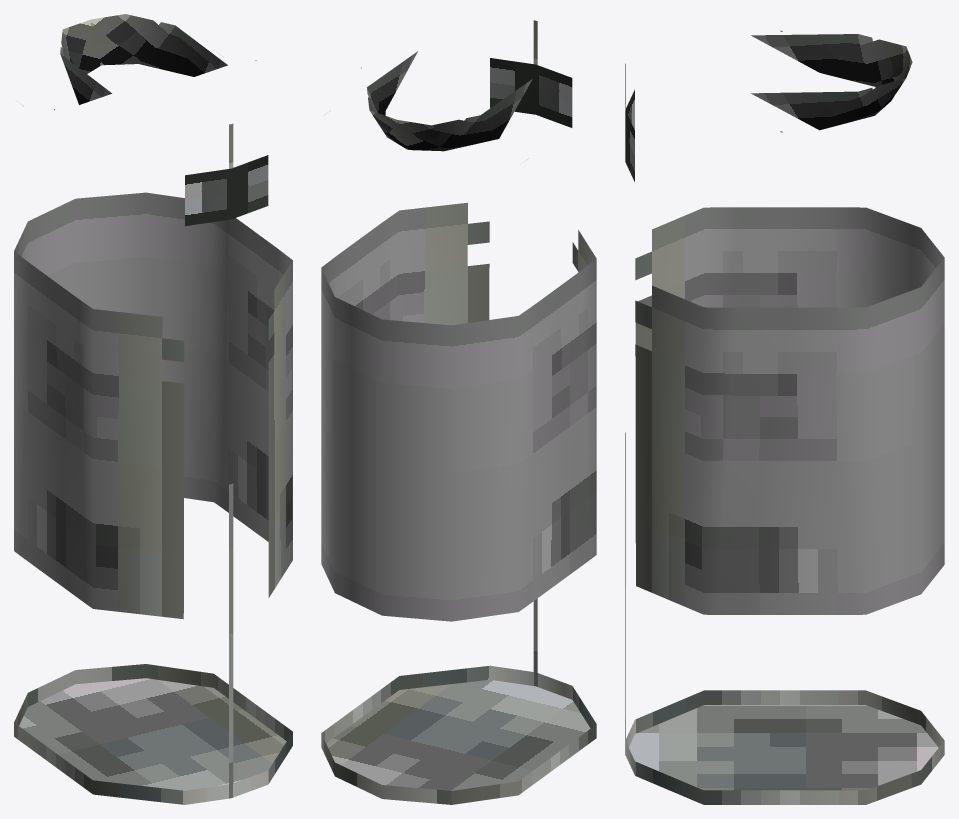
Rendered from eqp_spray_bottle_s01_l2.fbx.
3 renders of one model, left to right at view 1: azimuth 30°, elevation 25°; view 2: azimuth 150°, elevation 25°; view 3: azimuth 270°, elevation 25°, orthographic. The views are drawn at different scales.
Parts seen in each view (by area): view 1: mesh_node; view 2: mesh_node; view 3: mesh_node.
Boxes of the visible parts, x1,y1,x2,y2 form: mesh_node: [14, 14, 292, 804]; mesh_node: [321, 20, 596, 804]; mesh_node: [625, 30, 944, 804].
Size of the model in its own units: 0.0489 by 0.1568 by 0.0655.
